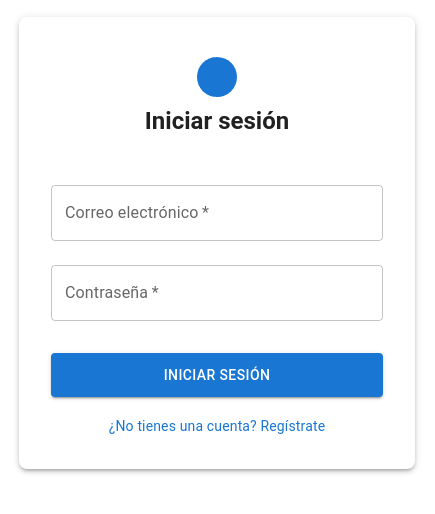
Test case: Login screen › Invalid password format (empty)
Type "user1@example.com" into the field named "email" at (217, 213), box x1=51 y1=185 x2=383 y2=241
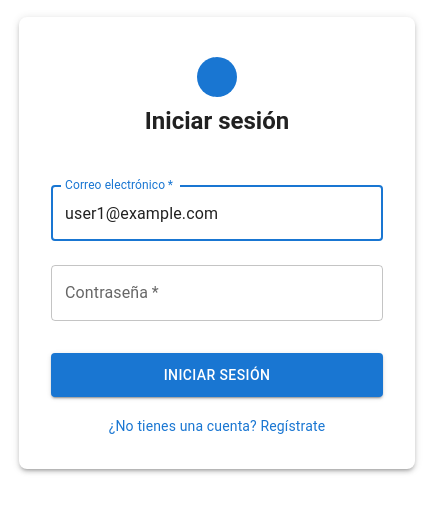
Click the submit button at (217, 375), box x1=51 y1=353 x2=383 y2=397
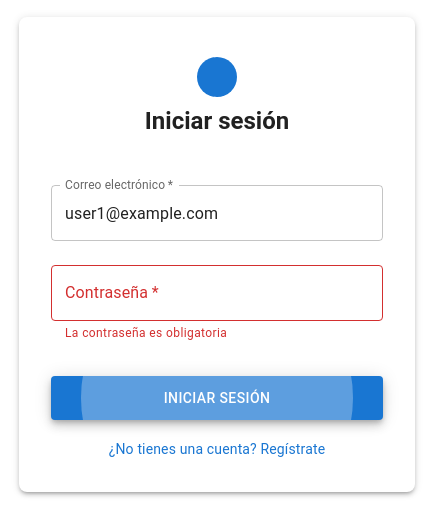
expect the text "La contraseña es obligatoria" is shown: met, box x1=65 y1=326 x2=227 y2=340
